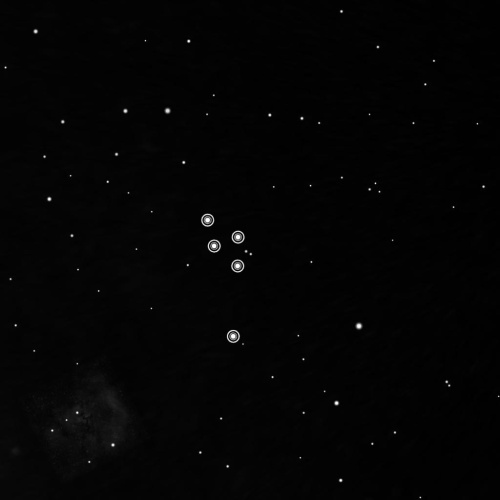delphinus: (192, 205, 249, 349)
